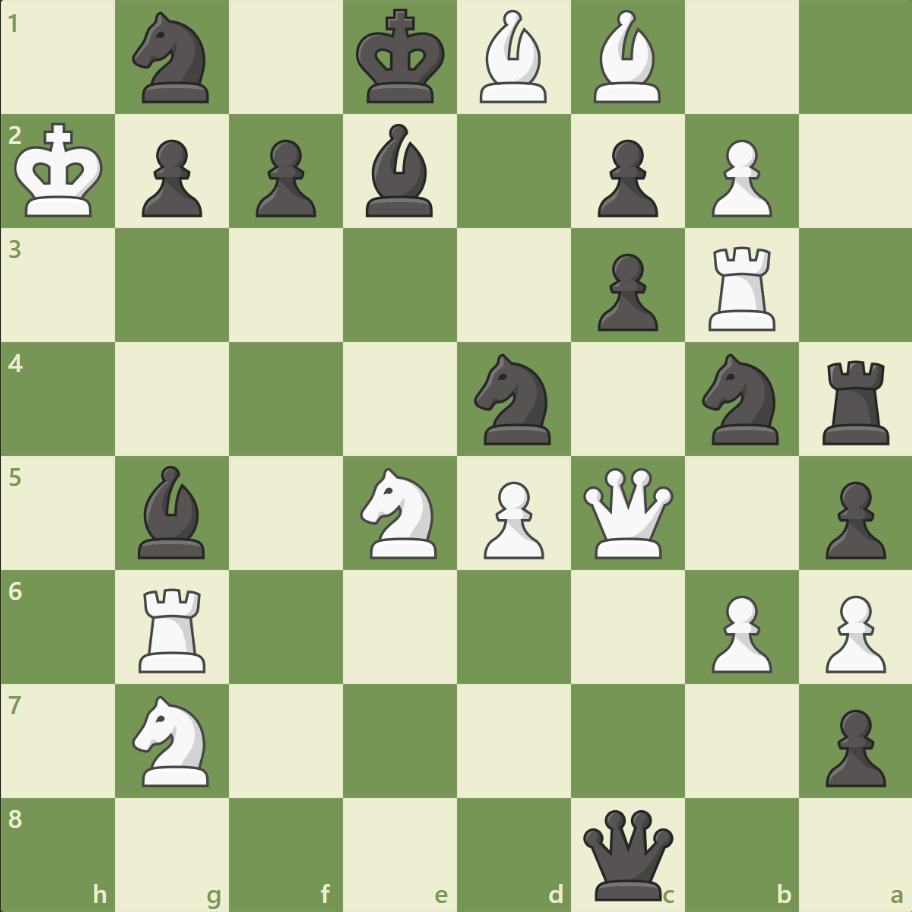B: (585, 6, 669, 109), (471, 6, 555, 109)
K: (11, 117, 111, 225)
N: (124, 688, 222, 791), (351, 461, 449, 564)
P: (701, 586, 776, 677), (474, 473, 549, 564), (701, 132, 776, 223), (815, 586, 889, 677)
Q: (578, 463, 677, 562)
R: (700, 239, 783, 336), (133, 579, 215, 676)
b: (131, 460, 215, 563), (358, 120, 442, 222)
k: (351, 4, 451, 112)
n: (124, 7, 222, 110), (692, 348, 789, 450), (465, 348, 562, 450)
p: (247, 132, 322, 223), (133, 132, 208, 223), (815, 700, 889, 791), (815, 473, 889, 564), (588, 246, 662, 337), (588, 132, 662, 223)
q: (578, 804, 677, 903)
r: (814, 352, 897, 449)
